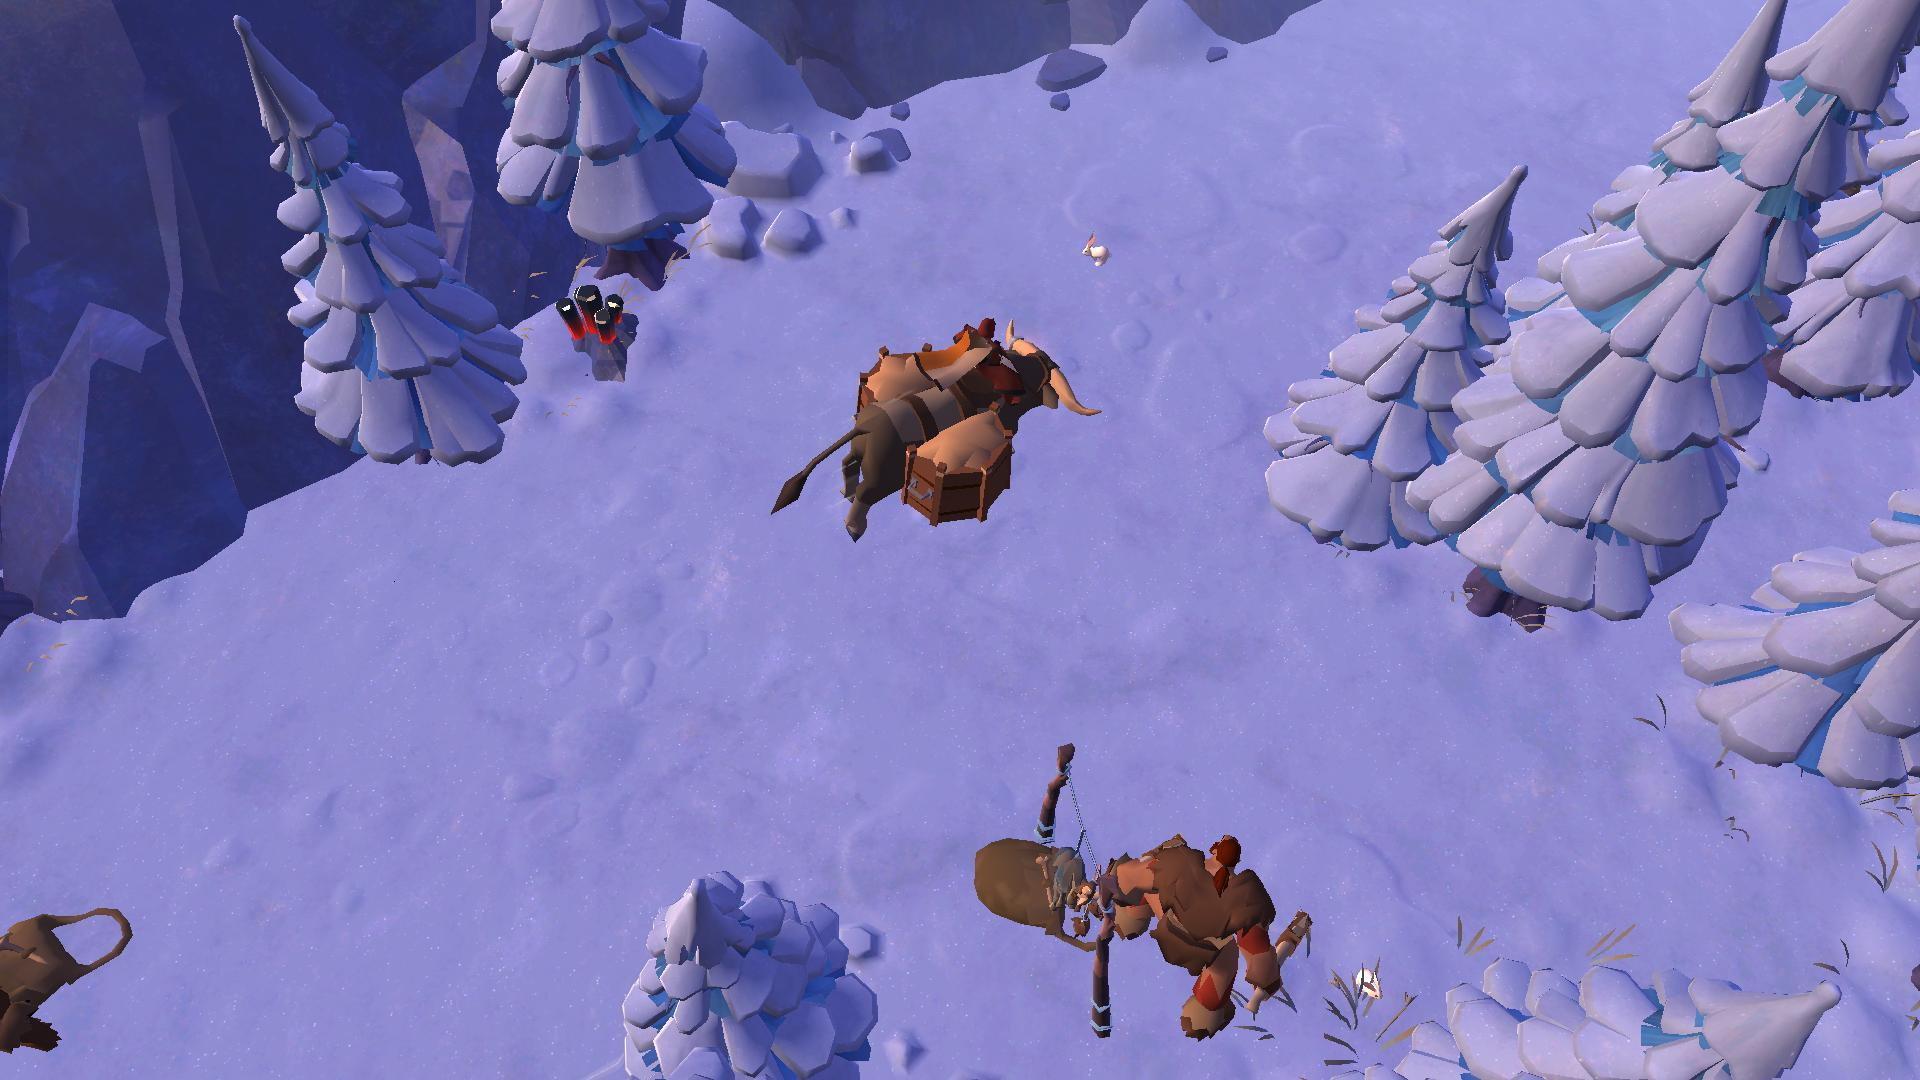enemy_factionKeeper: (1104, 823, 1305, 1039)
ore_t5: (546, 276, 630, 348)
